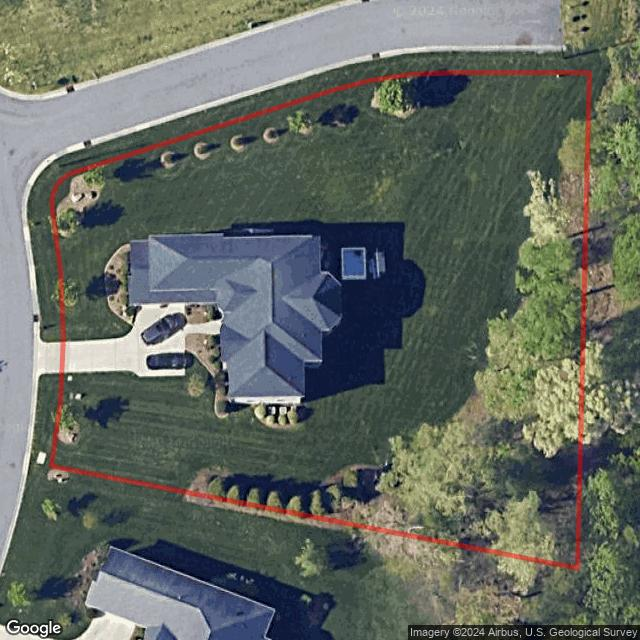Driveway: (62, 304, 187, 379)
Extra-Driveway: (38, 342, 64, 374)
Extra-Lawn: (26, 53, 610, 344), (29, 373, 62, 467)
House: (129, 230, 345, 400)
Lawn: (52, 73, 590, 569)
Other: (186, 123, 591, 566), (185, 333, 306, 429), (53, 169, 103, 238), (105, 243, 136, 326), (372, 75, 423, 116), (340, 247, 387, 280), (56, 406, 78, 445), (186, 303, 223, 324)
Sidewalk: (185, 319, 221, 335)
